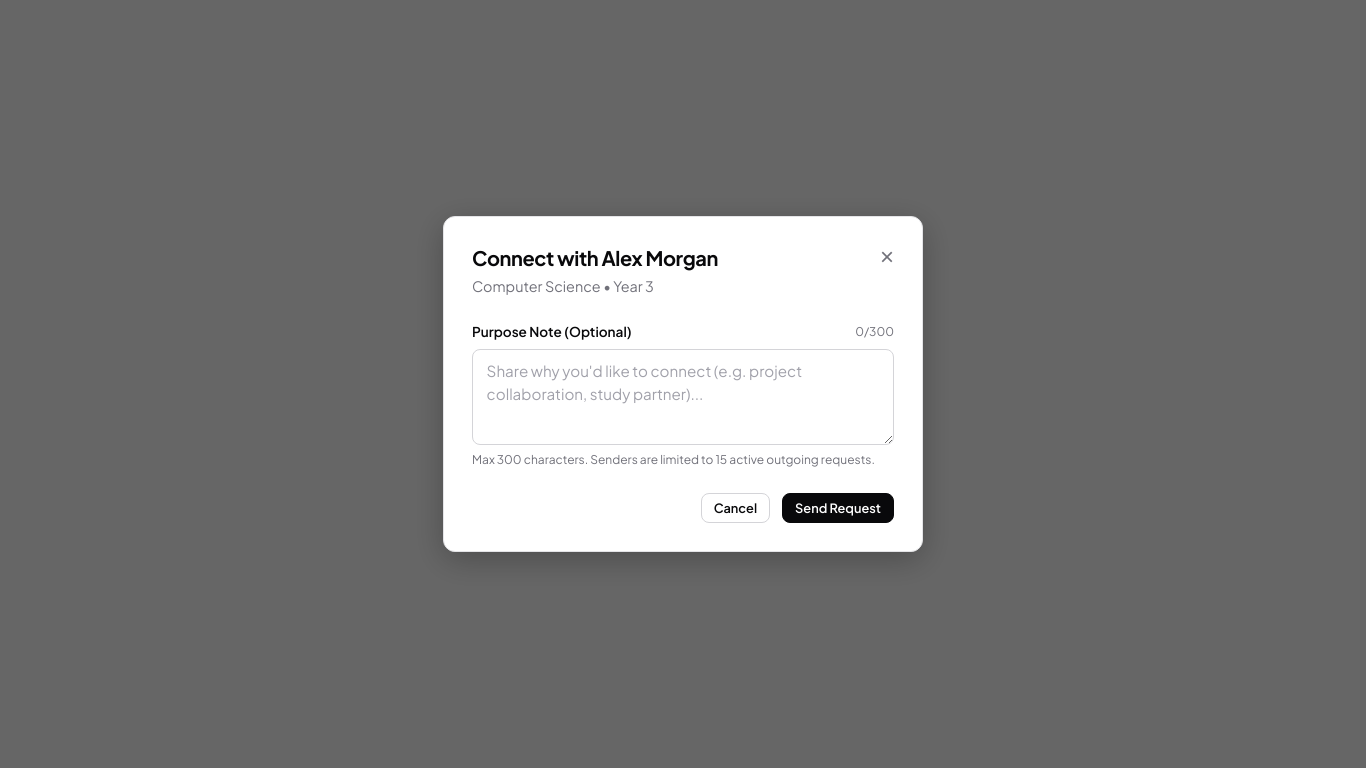
Modal Integration Tests › ConnectModal › displays error alert on failure and does not close modal
The image size is (1366, 768).
Click the button "Send Request". click: [838, 508]
box: [782, 493, 894, 523]
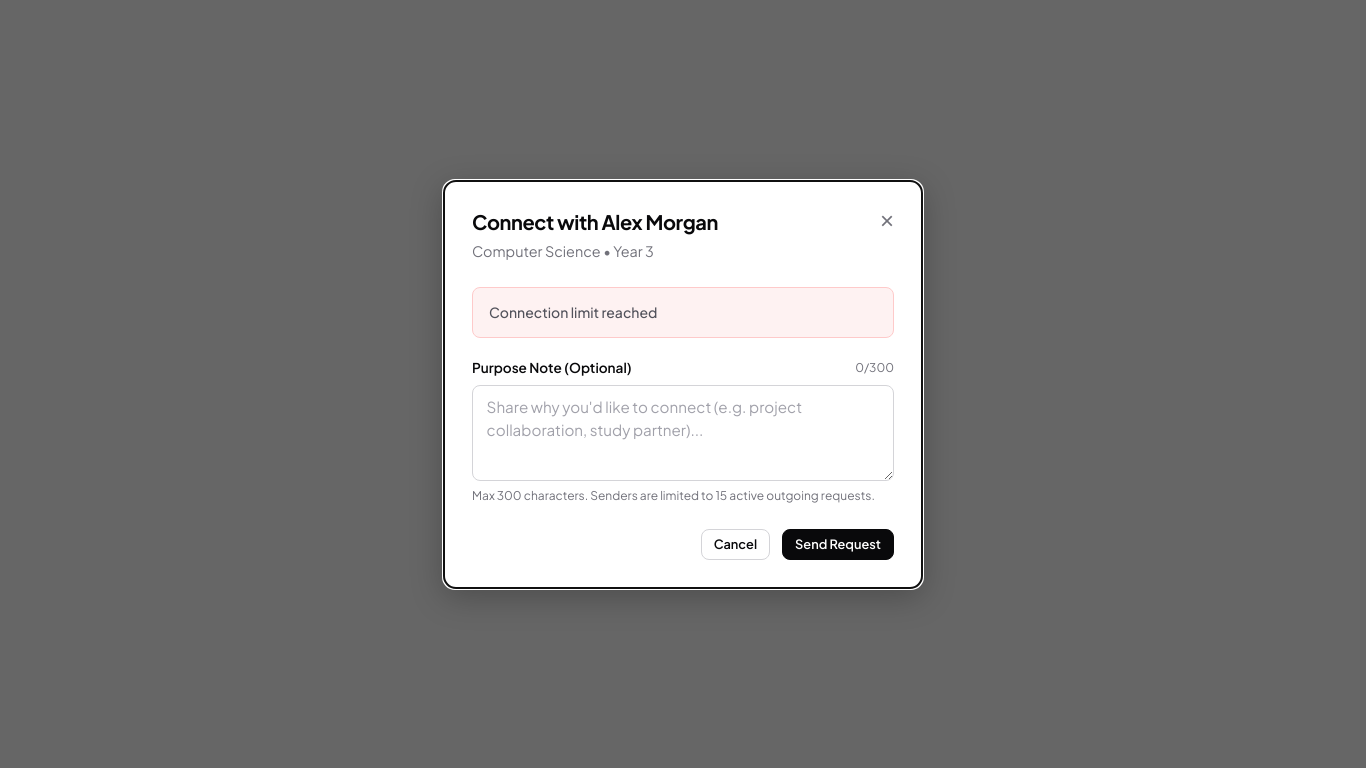
Expected: the text "Connection limit reached" is shown, [489, 303, 657, 321]
